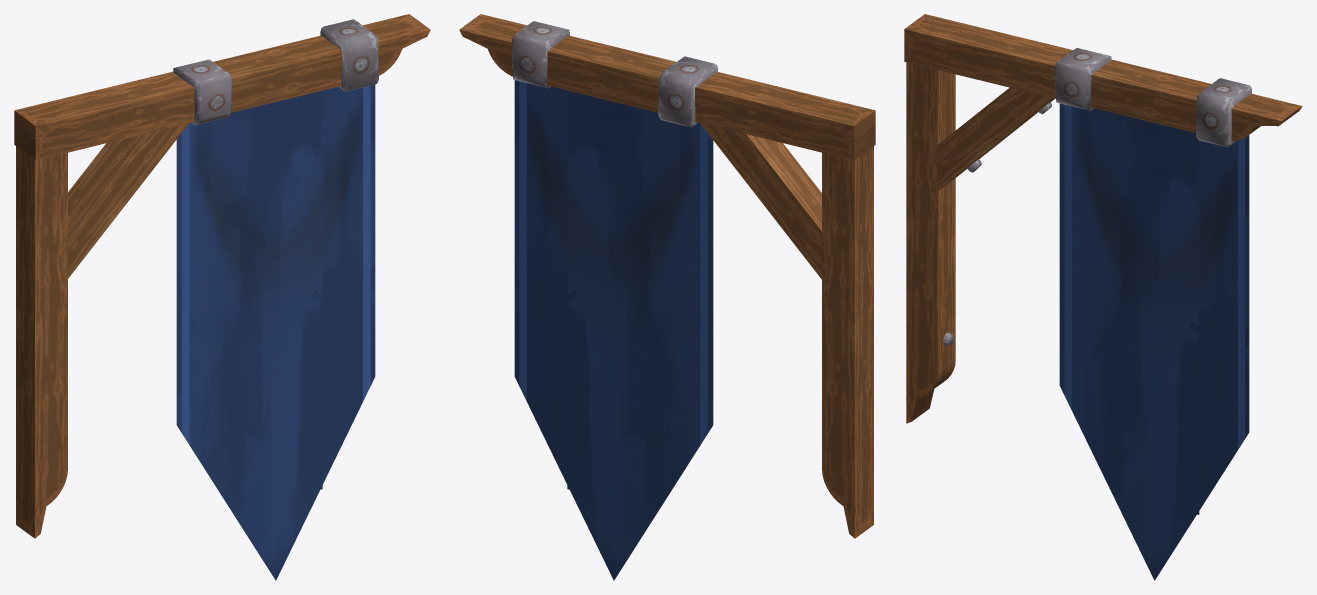
Rendered from banner-2.glb.
The picture shows the model from 3 angles, left to right: view 1: azimuth 30°, elevation 25°; view 2: azimuth 150°, elevation 25°; view 3: azimuth 330°, elevation 25°; orthographic projection. The views are drawn at different scales.
Visible parts, largest first — view 1: Banner_2; view 2: Banner_2; view 3: Banner_2.
Part boxes in pixels (box(x1,y1,x2,y2)): Banner_2: box(14, 14, 430, 580); Banner_2: box(459, 14, 875, 580); Banner_2: box(904, 14, 1302, 580).
Bounding box in the file's own units: 1.61 × 2.08 × 0.1906.
3 materials, 3 textured.
